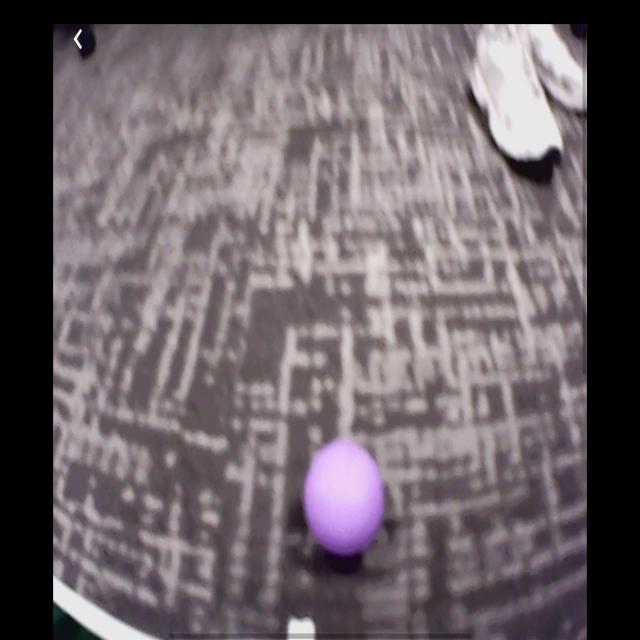ball: (303, 437, 386, 559)
